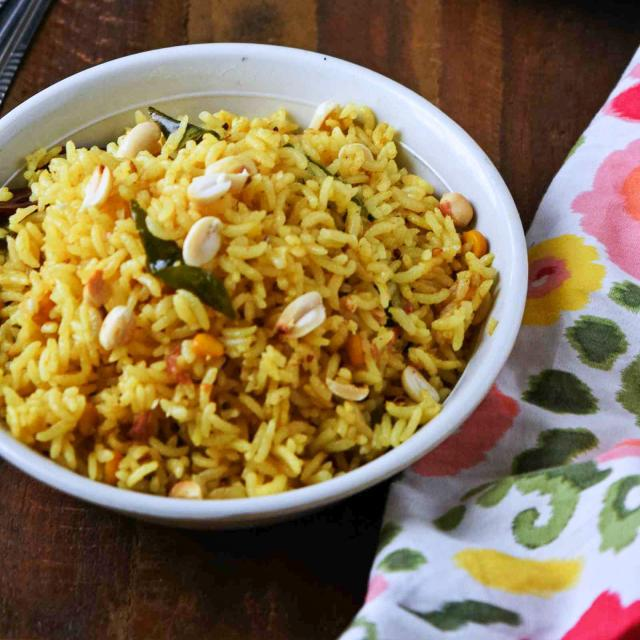puliyogare: (0, 72, 512, 516)
